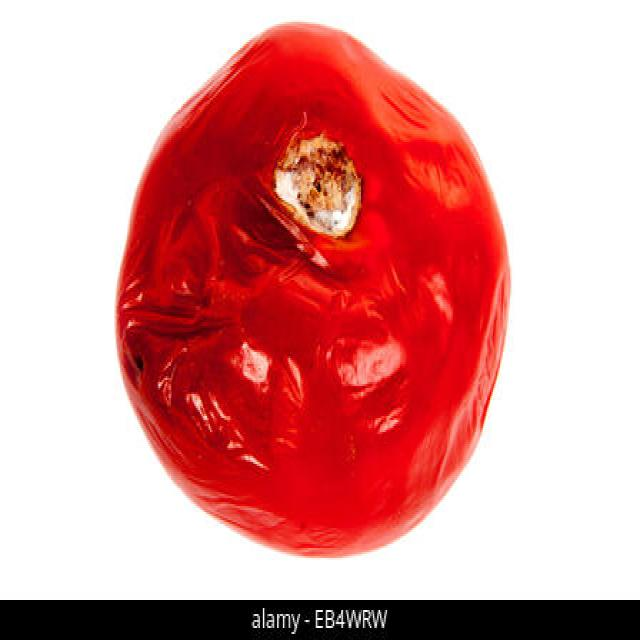overripe: (113, 16, 512, 558)
